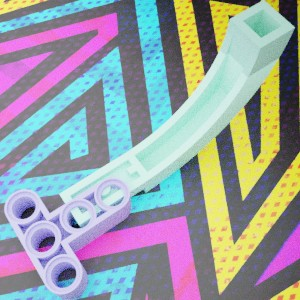lego: (59, 0, 294, 229), (4, 177, 131, 299)
